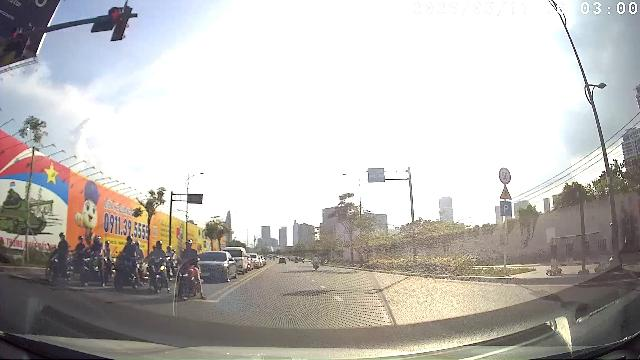127-toc-do-toi-da-50: (499, 168, 511, 184)
